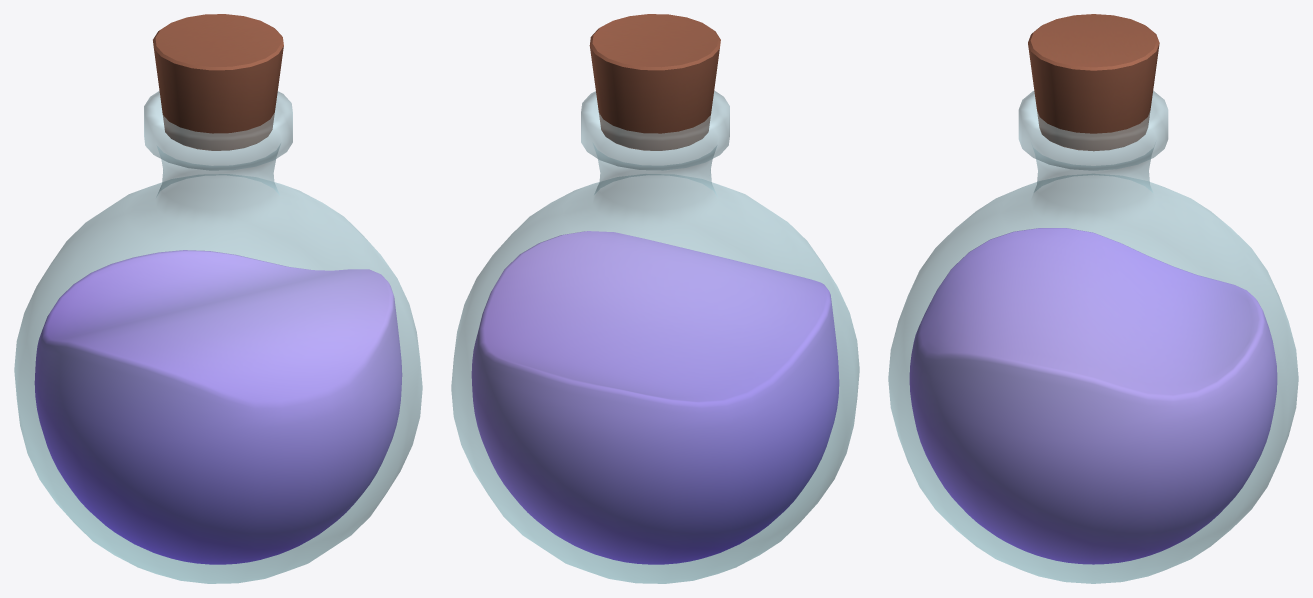
Rendered from PocionTortuga.fbx.
3 renders of one model, left to right at view 1: azimuth 30°, elevation 25°; view 2: azimuth 150°, elevation 25°; view 3: azimuth 270°, elevation 25°, orthographic.
Parts seen in each view (by area): view 1: Botella, Liquido, Corcho; view 2: Botella, Liquido, Corcho; view 3: Botella, Liquido, Corcho.
Boxes of the visible parts, <box> form: Botella: <box>14,91,422,583</box>; Liquido: <box>34,250,402,564</box>; Corcho: <box>153,14,283,150</box>; Botella: <box>451,91,859,583</box>; Liquido: <box>471,231,839,564</box>; Corcho: <box>589,14,720,150</box>; Botella: <box>888,91,1298,583</box>; Liquido: <box>909,228,1277,564</box>; Corcho: <box>1028,14,1159,151</box>.
Size of the model in its own units: 0.803 by 1.13 by 0.803.
